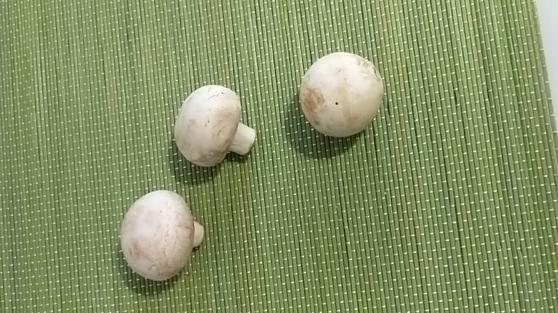champignon: (120, 188, 204, 284), (297, 49, 384, 140), (170, 85, 259, 170)
